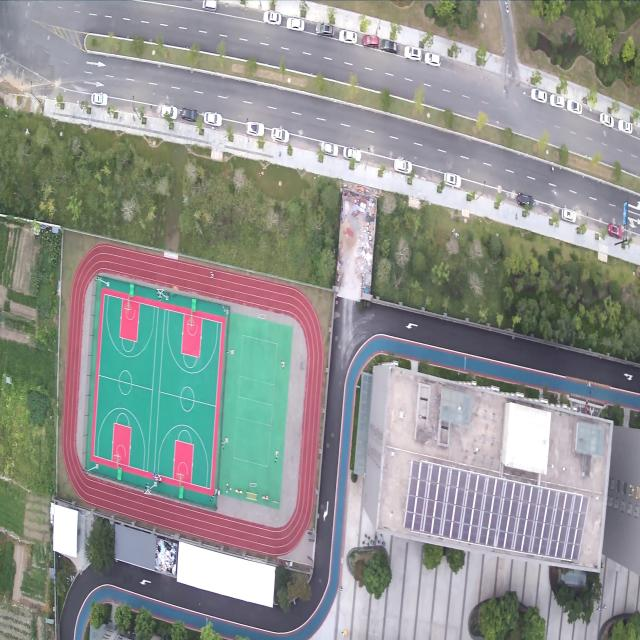UAV: (182, 194, 189, 205)
